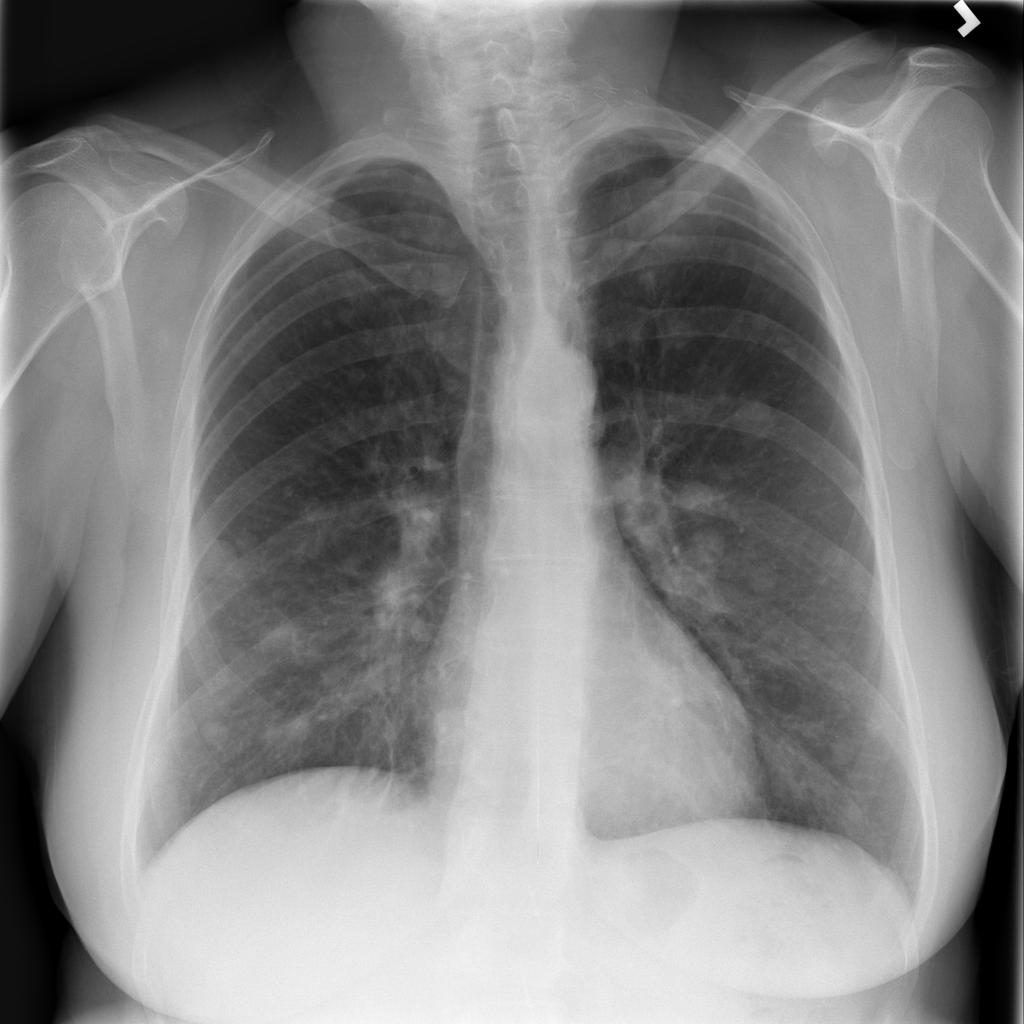nodule: (242, 598, 319, 675), (716, 382, 792, 454), (667, 516, 743, 588), (665, 471, 740, 538), (190, 517, 258, 589), (188, 705, 242, 754), (269, 708, 324, 756), (742, 554, 793, 603), (740, 291, 789, 341)
